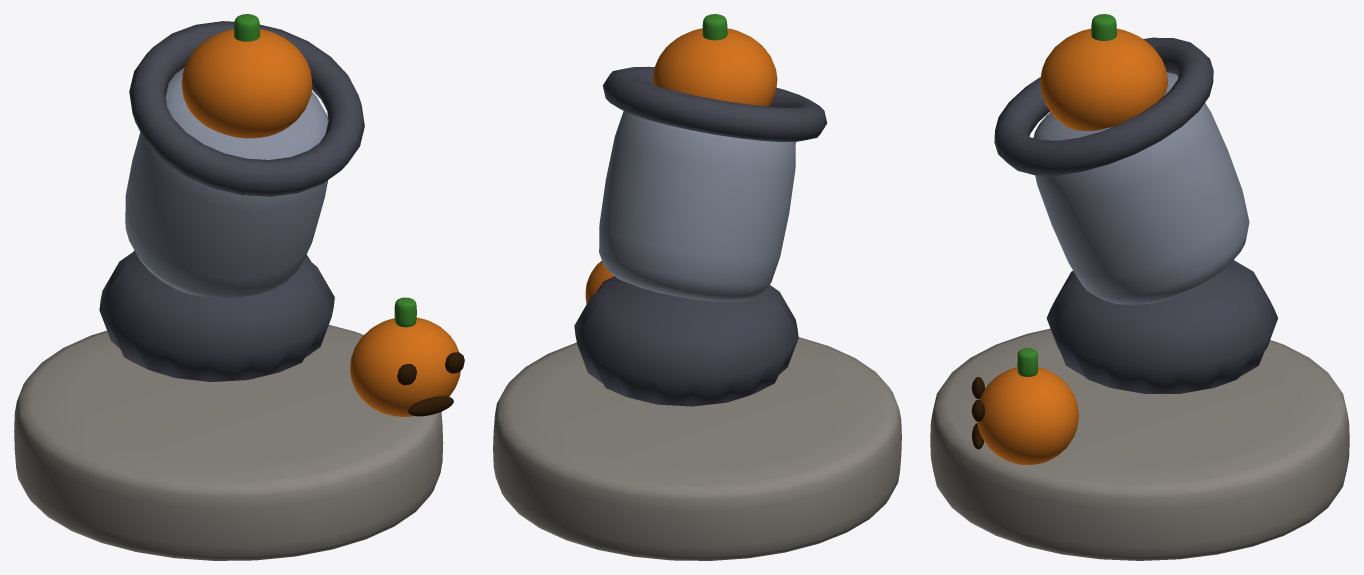
File: KuerbisMoerser.fbx
3 renders of one model, left to right at view 1: azimuth 30°, elevation 25°; view 2: azimuth 150°, elevation 25°; view 3: azimuth 270°, elevation 25°, orthographic. The views are drawn at different scales.
Visible parts, largest first — view 1: KuerbisMoerser; view 2: KuerbisMoerser; view 3: KuerbisMoerser.
Part boxes in pixels (left/top/right/bottom): KuerbisMoerser: left=14, top=14, right=464, bottom=560; KuerbisMoerser: left=493, top=14, right=901, bottom=560; KuerbisMoerser: left=930, top=14, right=1349, bottom=560.
Bounding box in the file's own units: 0.9347 × 1.14 × 0.9347.
